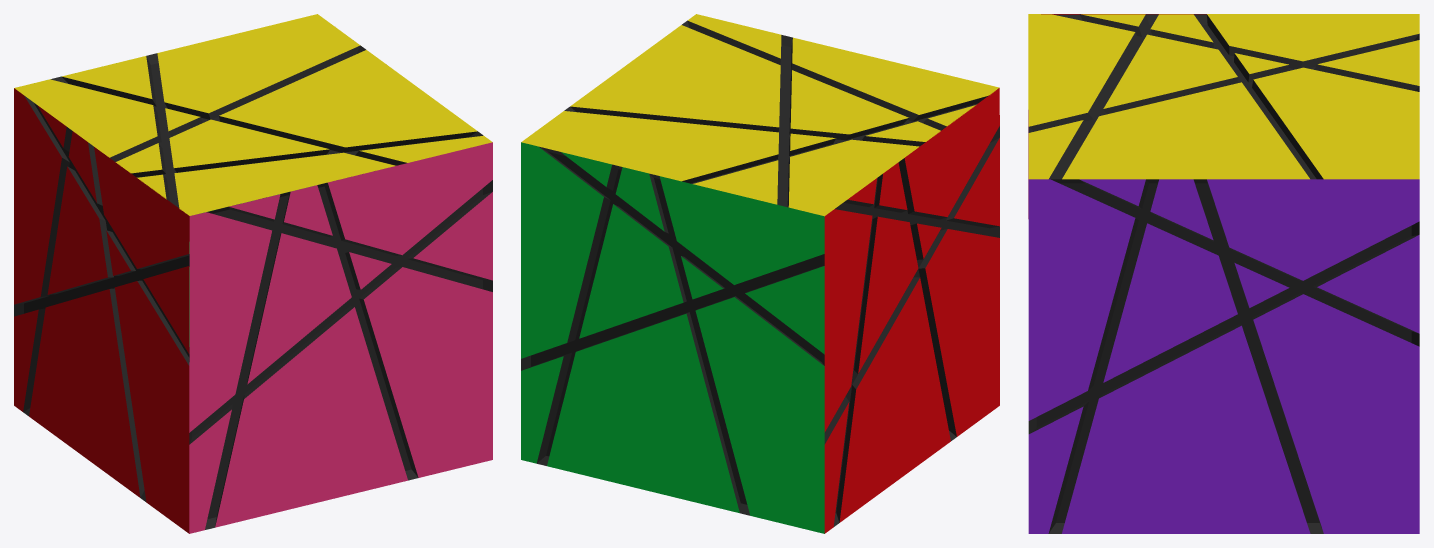
The model's file is xettli.fbx.
3 views of the same model, side by side, from view 1: azimuth 30°, elevation 25°; view 2: azimuth 150°, elevation 25°; view 3: azimuth 270°, elevation 25° (orthographic). The views are drawn at different scales.
Visible parts, largest first — view 1: Tessellation.014; view 2: Tessellation.014; view 3: Tessellation.014.
Part boxes in pixels (x1=…): Tessellation.014: x1=14, y1=14, x2=492, y2=533; Tessellation.014: x1=521, y1=14, x2=999, y2=533; Tessellation.014: x1=1028, y1=14, x2=1419, y2=533.
Size of the model in its own units: 209 by 209 by 209.
